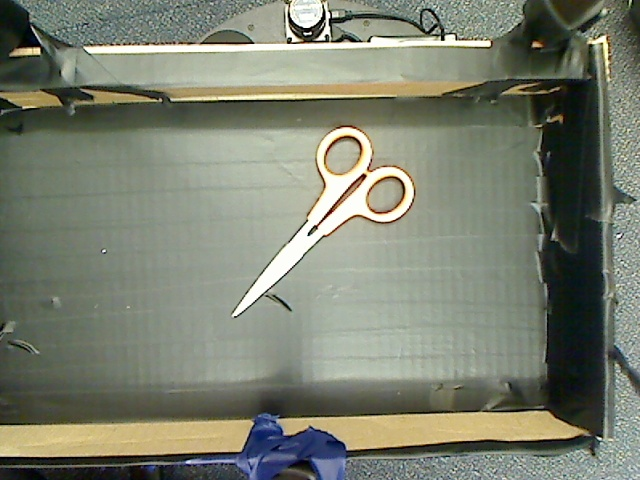scissors: (219, 116, 437, 331)
